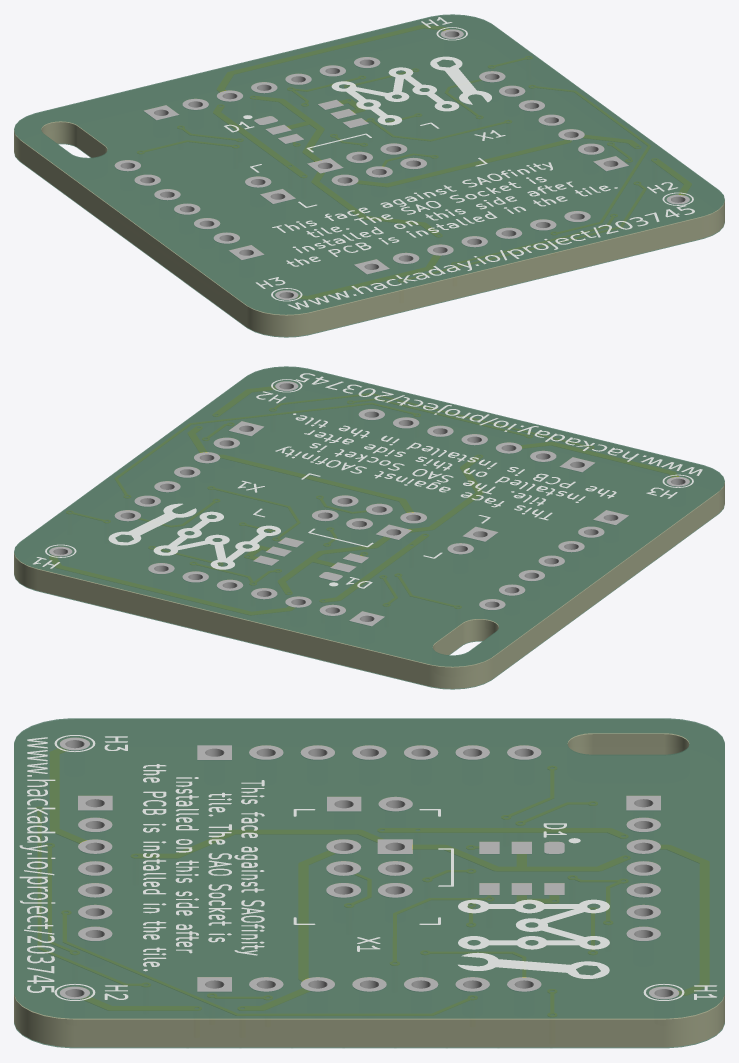
Rendered from saofinity-an-sao-display-solution-with-options.glb.
3 views of the same model, one above another, from view 1: azimuth 30°, elevation 25°; view 2: azimuth 150°, elevation 25°; view 3: azimuth 270°, elevation 25° (orthographic). The views are drawn at different scales.
Visible parts, largest first — view 1: =>[0:1:1:7], =>[0:1:1:9], =>[0:1:1:2], =>[0:1:1:5]; view 2: =>[0:1:1:7], =>[0:1:1:9], =>[0:1:1:2], =>[0:1:1:5]; view 3: =>[0:1:1:7], =>[0:1:1:9], =>[0:1:1:2], =>[0:1:1:5].
Boxes of the visible parts, x1,y1,x2,y2 form: =>[0:1:1:7]: (14,14,724,337); =>[0:1:1:9]: (14,15,724,336); =>[0:1:1:2]: (114,25,691,299); =>[0:1:1:5]: (63,17,694,317); =>[0:1:1:7]: (14,366,724,689); =>[0:1:1:9]: (14,367,724,688); =>[0:1:1:2]: (49,381,689,626); =>[0:1:1:5]: (33,373,702,669); =>[0:1:1:7]: (14,718,724,1048); =>[0:1:1:9]: (14,719,724,1047); =>[0:1:1:2]: (36,737,708,1016); =>[0:1:1:5]: (19,735,716,1048).
Bounding box in the file's own units: 0.035 × 0.00166 × 0.035.
Materials: 4 (4 with a texture image).
